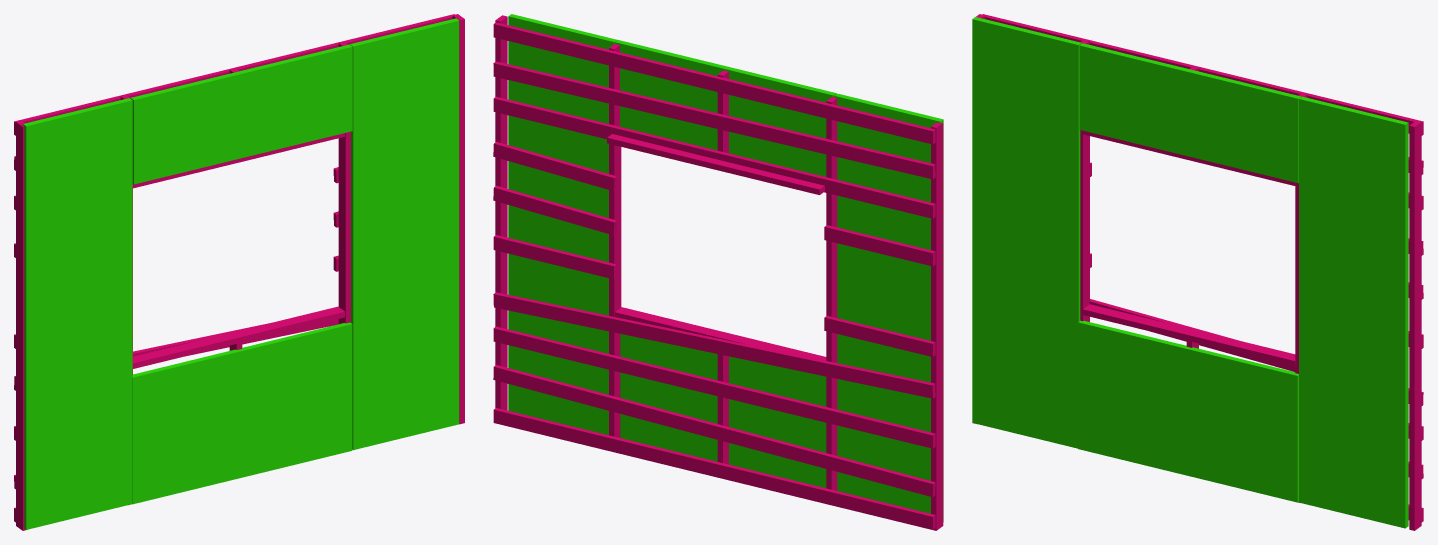
Rendered from House_Wood_Debris_04.fbx.
3 renders of one model, left to right at view 1: azimuth 30°, elevation 25°; view 2: azimuth 150°, elevation 25°; view 3: azimuth 330°, elevation 25°, orthographic.
Visible parts, largest first — view 1: House_Wood_Debris_04; view 2: House_Wood_Debris_04; view 3: House_Wood_Debris_04.
Part boxes in pixels (box(x1,y1,x2,y2)): House_Wood_Debris_04: box(14, 14, 464, 530); House_Wood_Debris_04: box(493, 14, 943, 530); House_Wood_Debris_04: box(972, 14, 1423, 530).
Size of the model in its own units: 344 by 301 by 23.01.
